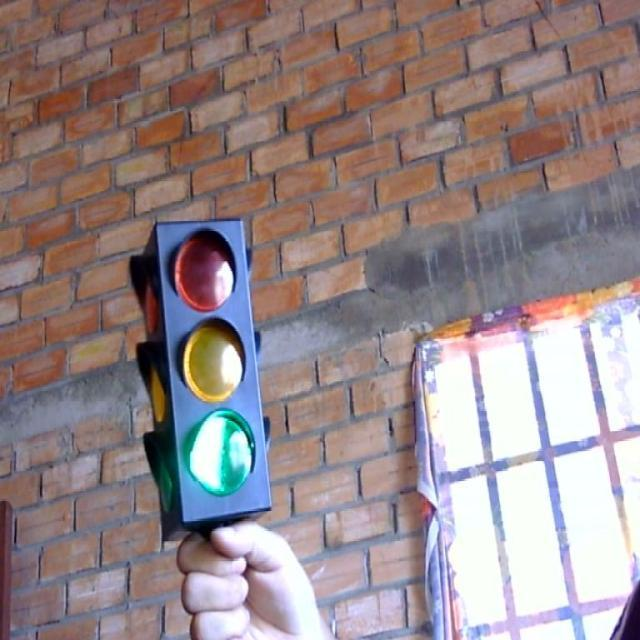green light: (180, 401, 264, 508)
